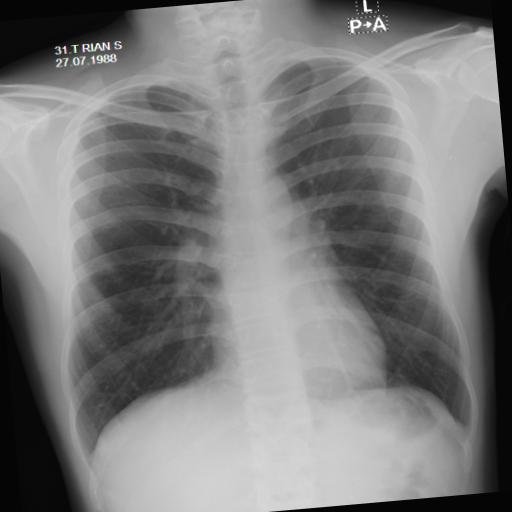normal: (29, 32, 488, 478)
